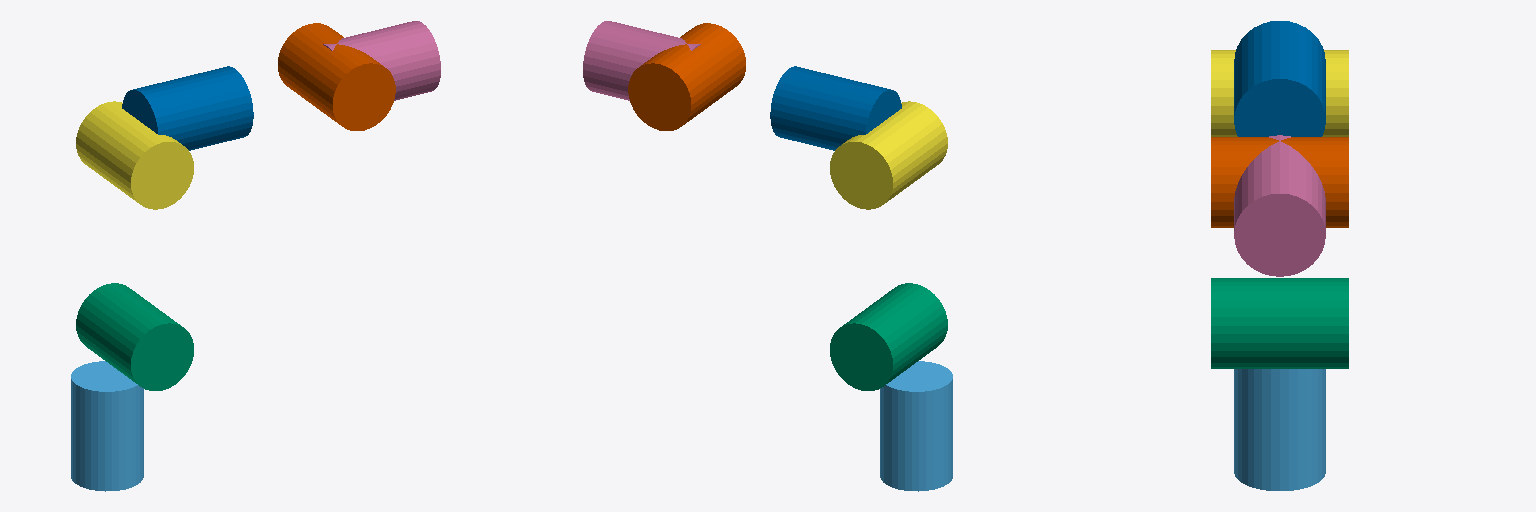
robot.urdf — testirb4600:
<robot name="testirb4600">
    <link name="link0">
    </link>
    <link name="link1">
        <inertial>
            <origin xyz="0.18000 0.00000 0.50000"/>
            <mass value="120.00000"/>
            <inertia ixx="-4.98000" iyy="-5.95200" izz="0.82800" ixy="-0.00000" ixz="2.70000" iyz="-0.00000"/>
        </inertial>
         <visual>
      <geometry>
        <cylinder length="0.6" radius="0.2"/>
      </geometry>
    </visual>
    <collision>
      <geometry>
        <cylinder length="0.6" radius="0.2"/>
      </geometry>
    </collision>
    </link>
    <link name="link2">
        <inertial>
            <origin xyz="0.94000 0.08000 -0.34000"/>
            <mass value="120.00000"/>
            <inertia ixx="-2.96000" iyy="-18.72601" izz="-14.95000" ixy="2.25600" ixz="-9.58800" iyz="-0.81600"/>
        </inertial><visual>
      <geometry>
        <cylinder length="0.6" radius="0.2"/>
      </geometry>
    </visual>
    <collision>
      <geometry>
        <cylinder length="0.6" radius="0.2"/>
      </geometry>
    </collision>
    </link>
    <link name="link3">
        <inertial>
            <origin xyz="0.07000 -0.26600 0.08800"/>
            <mass value="120.00000"/>
            <inertia ixx="1.34500" iyy="4.65068" izz="2.76032" ixy="-0.55860" ixz="0.18480" iyz="-0.70224"/>
        </inertial><visual>
      <geometry>
        <cylinder length="0.6" radius="0.2"/>
      </geometry>
    </visual>
    <collision>
      <geometry>
        <cylinder length="0.6" radius="0.2"/>
      </geometry>
    </collision>
    </link>
    <link name="link4">
        <inertial>
            <origin xyz="0.00000 0.00000 1.00000"/>
            <mass value="40.00000"/>
            <inertia ixx="-8.00000" iyy="-8.00000" izz="0.48200" ixy="-0.00000" ixz="-0.00000" iyz="-0.00000"/>
        </inertial><visual>
      <geometry>
        <cylinder length="0.6" radius="0.2"/>
      </geometry>
    </visual>
    <collision>
      <geometry>
        <cylinder length="0.6" radius="0.2"/>
      </geometry>
    </collision>
    </link>
    <link name="link5">
        <inertial>
            <origin xyz="0.14000 0.00000 0.00000"/>
            <mass value="10.00000"/>
            <inertia ixx="0.04000" iyy="-0.00900" izz="-0.00400" ixy="-0.00000" ixz="-0.00000" iyz="-0.00000"/>
        </inertial><visual>
      <geometry>
        <cylinder length="0.6" radius="0.2"/>
      </geometry>
    </visual>
    <collision>
      <geometry>
        <cylinder length="0.6" radius="0.2"/>
      </geometry>
    </collision>
    </link>
    <link name="link6">
        <inertial>
            <origin xyz="0.08100 -0.09100 0.33200"/>
            <mass value="5.00000"/>
            <inertia ixx="-0.29652" iyy="-0.28792" izz="-0.04621" ixy="-0.03686" ixz="0.09396" iyz="-0.10556"/>
        </inertial><visual>
      <geometry>
        <cylinder length="0.6" radius="0.2"/>
      </geometry>
    </visual>
    <collision>
      <geometry>
        <cylinder length="0.6" radius="0.2"/>
      </geometry>
    </collision>
    </link>
    <joint name="jA" type="revolute">
        <origin xyz="0.00000 0.00000 0.00000" rpy="0.0 0.0 0.0"/>
        <parent link="link0"/>
        <child  link="link1"/>
        <limit effort="30" velocity="1.0"/>
        <axis xyz="0 0 1"/>
    </joint>
    <joint name="jB" type="revolute">
        <origin xyz="0.17500 0.00000 0.49500" rpy="2.3561944901923457 -1.5707962635746238 2.3561944901923457"/>
        <parent link="link1"/>
        <child  link="link2"/>
        <limit effort="30" velocity="1.0"/>
        <axis xyz="0 0 1"/>
    </joint>
    <joint name="jC" type="revolute">
        <origin xyz="1.09500 0.00000 0.00000" rpy="0.0 -0.0 1.5707963705062866"/>
        <parent link="link2"/>
        <child  link="link3"/>
        <limit effort="30" velocity="1.0"/>
        <axis xyz="0 0 1"/>
    </joint>
    <joint name="jD" type="revolute">
        <origin xyz="0.33200 -0.17500 0.00000" rpy="3.141592653589793 1.570796282091413 3.141592653589793"/>
        <parent link="link3"/>
        <child  link="link4"/>
        <limit effort="30" velocity="1.0"/>
        <axis xyz="0 0 1"/>
    </joint>
    <joint name="jE" type="revolute">
        <origin xyz="0.00000 0.00000 0.93900" rpy="3.141592653589793 -1.570796282091413 3.141592653589793"/>
        <parent link="link4"/>
        <child  link="link5"/>
        <limit effort="30" velocity="1.0"/>
        <axis xyz="0 0 1"/>
    </joint>
    <joint name="jF" type="revolute">
        <origin xyz="0.24300 0.00000 0.00000" rpy="1.5707963267948948 -4.371139000186238E-8 1.5707963705062866"/>
        <parent link="link5"/>
        <child  link="link6"/>
        <limit effort="30" velocity="1.0"/>
        <axis xyz="0 0 1"/>
    </joint>
</robot>

--- Facts derived from the render (not from the file) ---
3 views of the same robot in one strip: view 1: azimuth 30°, elevation 25°; view 2: azimuth 150°, elevation 25°; view 3: azimuth 270°, elevation 25° (orthographic).
Model testirb4600 with 7 links and 6 joints (6 revolute), rooted at link0, posed every joint at zero.
Visible links, largest first — view 1: link1, link2, link5, link3, link4, link6; view 2: link1, link2, link5, link3, link4, link6; view 3: link2, link1, link6, link4, link5, link3.
Link boxes in pixels (left/top/right/bottom): link1: left=71, top=361, right=143, bottom=491; link2: left=76, top=283, right=193, bottom=390; link5: left=278, top=23, right=395, bottom=130; link3: left=76, top=101, right=193, bottom=209; link4: left=122, top=66, right=253, bottom=150; link6: left=323, top=21, right=440, bottom=100; link1: left=880, top=361, right=952, bottom=491; link2: left=830, top=283, right=947, bottom=390; link5: left=628, top=23, right=745, bottom=130; link3: left=830, top=101, right=947, bottom=209; link4: left=770, top=66, right=901, bottom=150; link6: left=583, top=21, right=700, bottom=100; link2: left=1211, top=278, right=1348, bottom=368; link1: left=1234, top=369, right=1325, bottom=490; link6: left=1234, top=135, right=1325, bottom=276; link4: left=1234, top=21, right=1325, bottom=136; link5: left=1211, top=137, right=1348, bottom=227; link3: left=1211, top=50, right=1348, bottom=136.
Size in the robot's own frame: 2.19 by 0.6 by 2.27 metres.
Geometry: primitives only (box / cylinder / sphere), no mesh files.